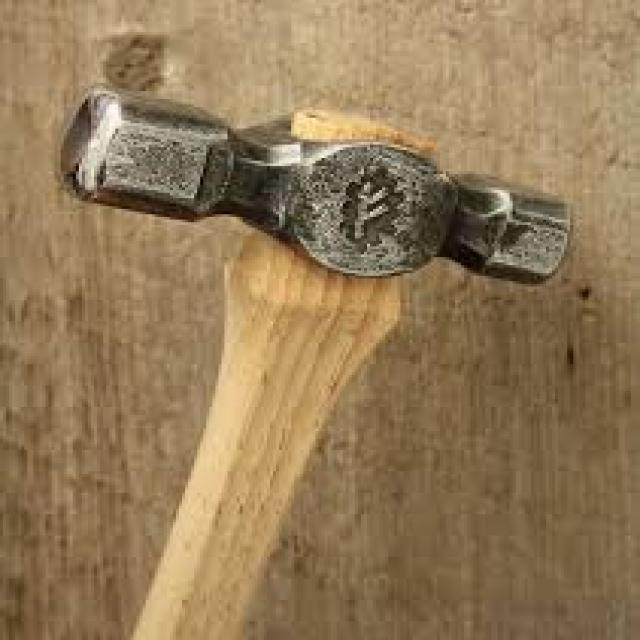hammer: (62, 69, 574, 640)
